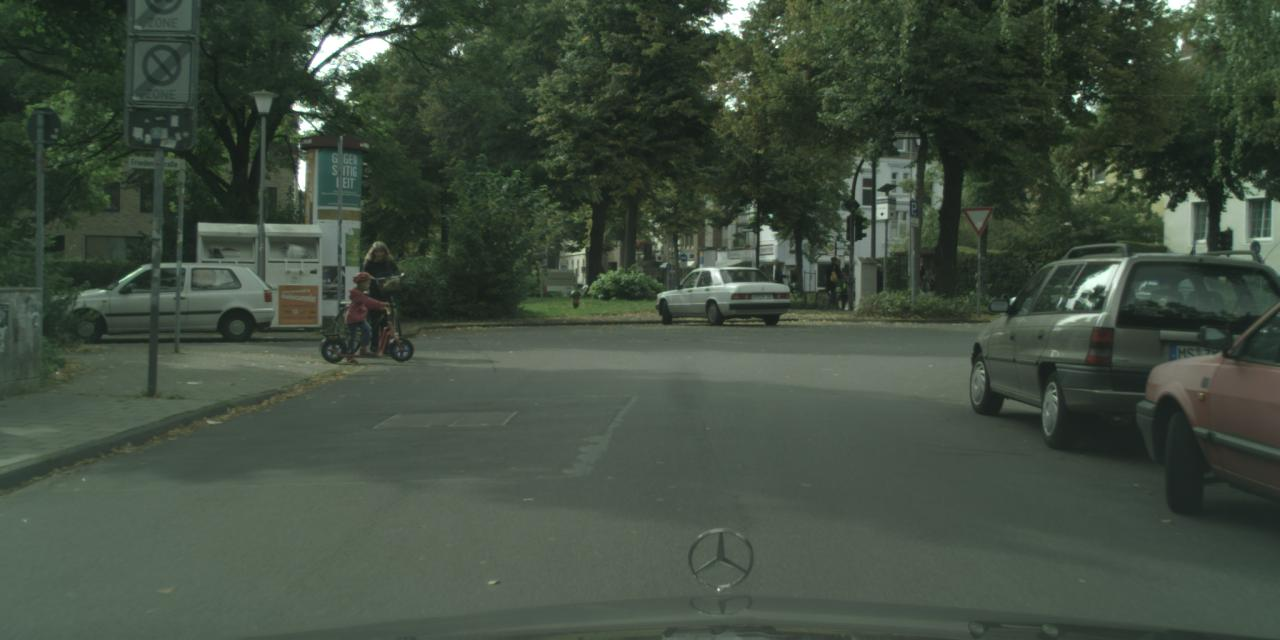ped: (356, 240, 402, 350), (343, 272, 378, 357), (824, 256, 844, 308), (826, 258, 846, 309), (911, 257, 930, 304), (770, 261, 788, 306), (835, 270, 851, 308)
